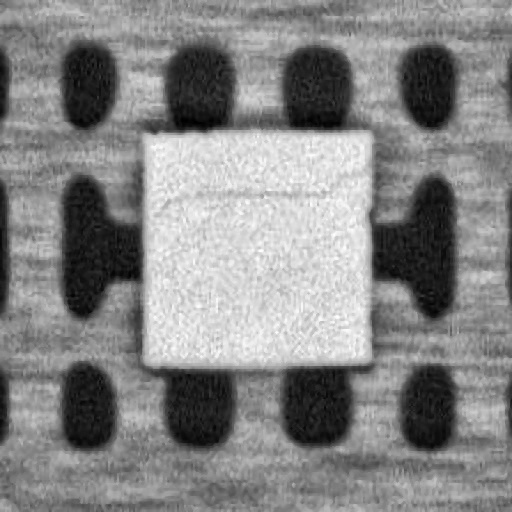DIE_CRACK: (154, 164, 367, 218)
